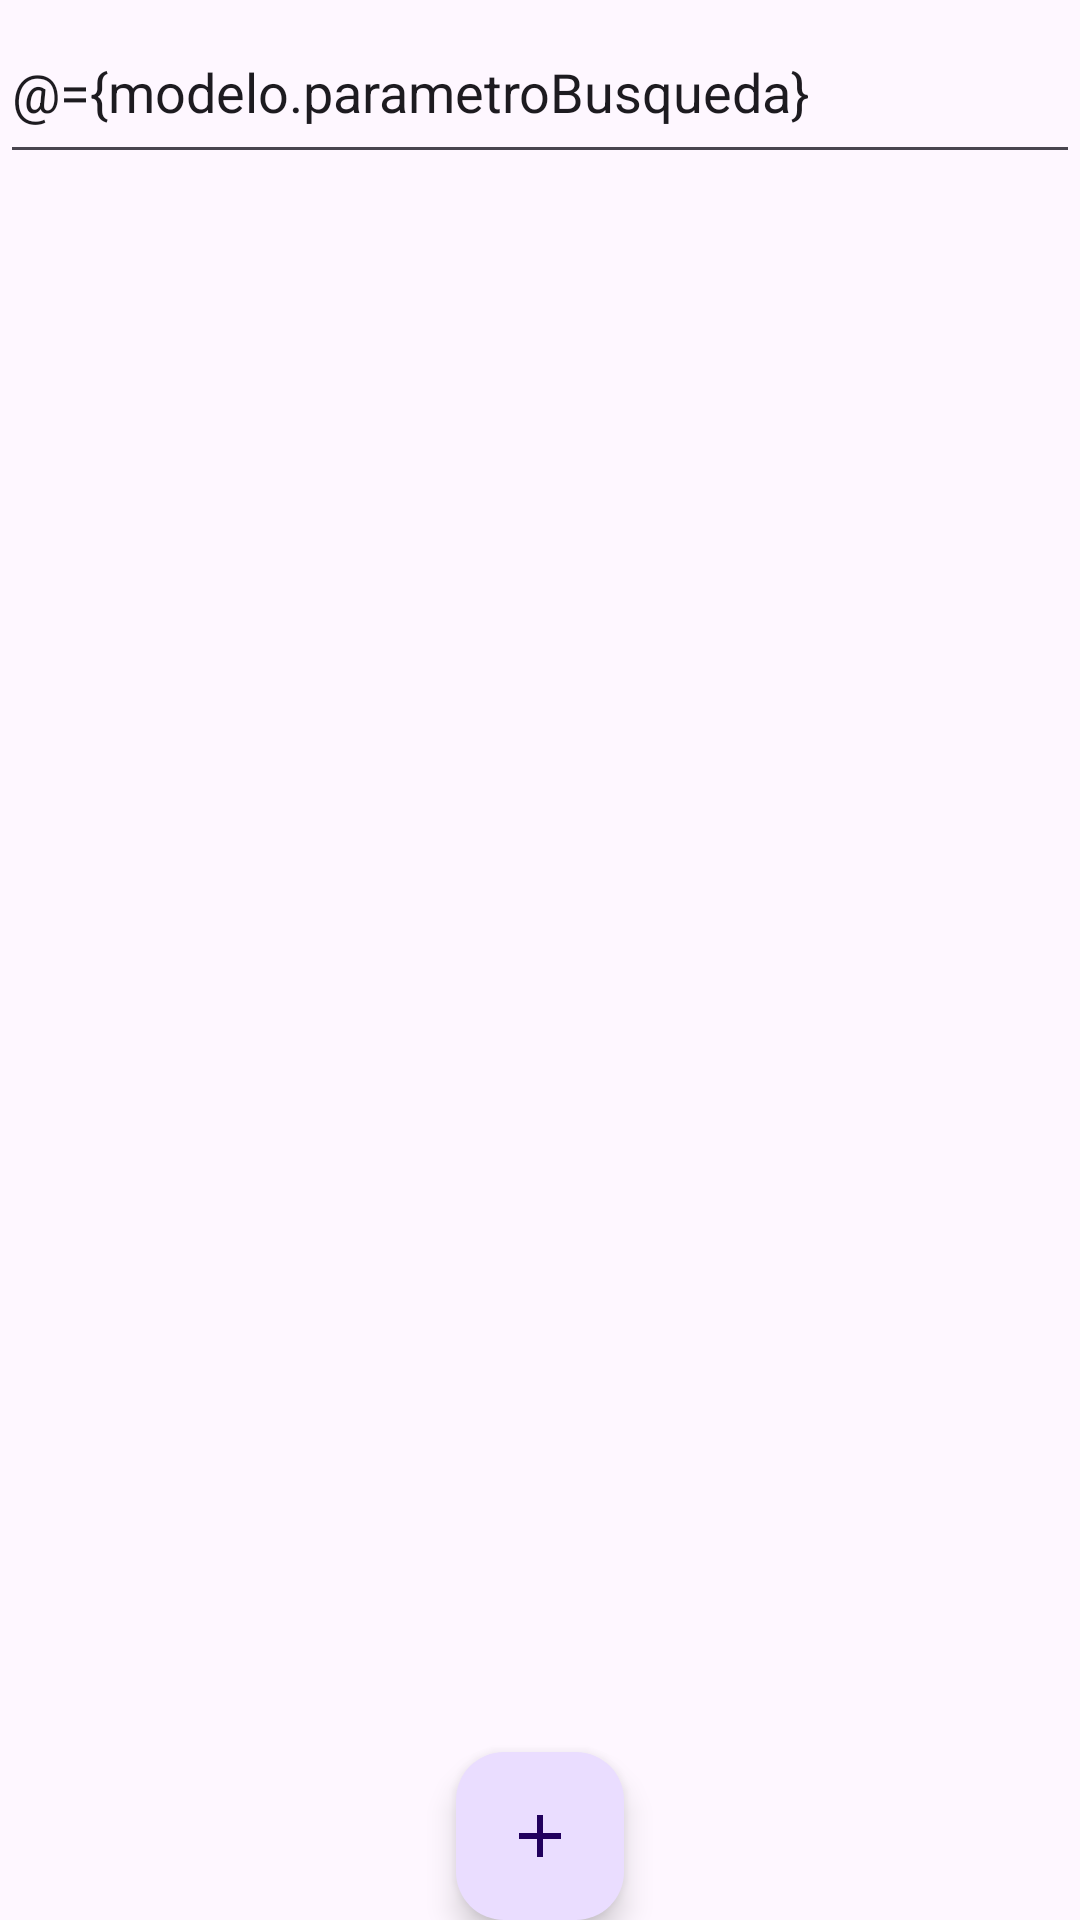

Where icons sit on this 1080px×1920px app screen, as rect(x1, y1, x2, y2):
add: rect(456, 1752, 624, 1920)
